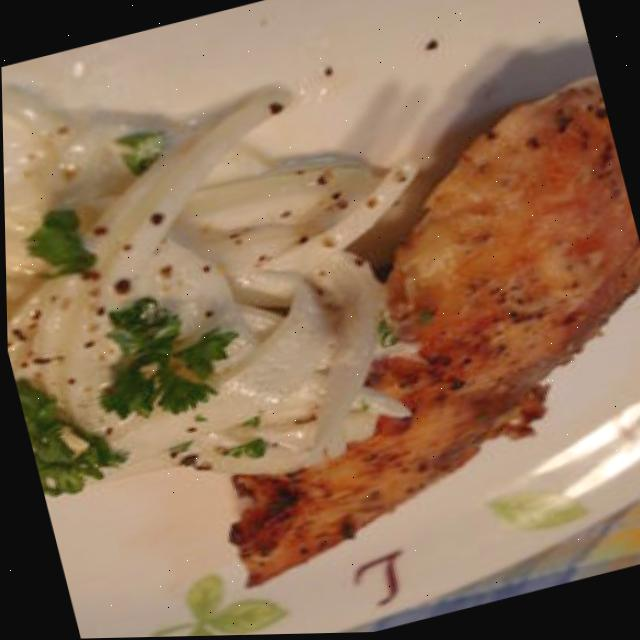熟制海鲜: (104, 41, 640, 611)
